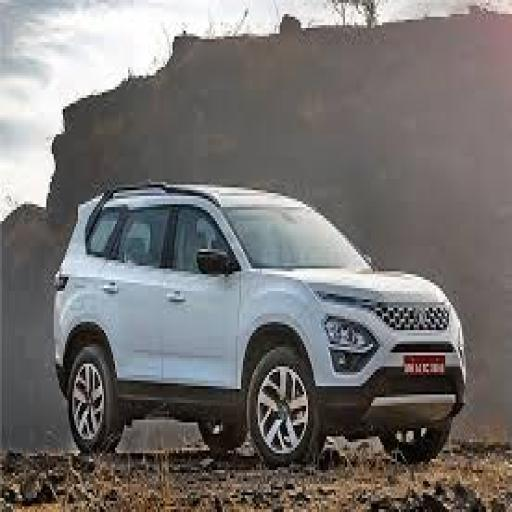car: (48, 174, 478, 472)
